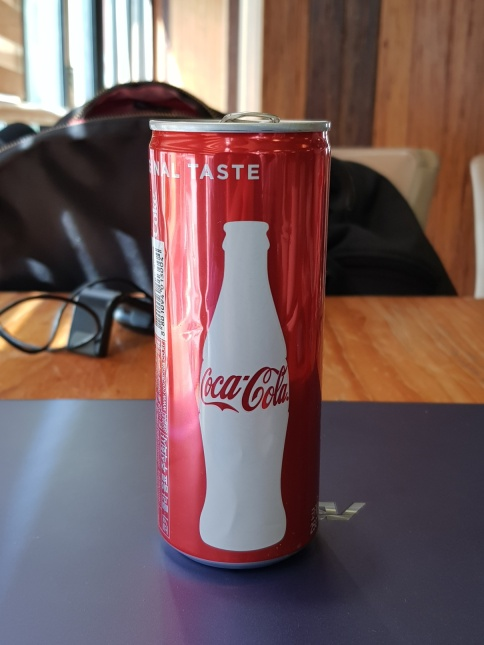Can: (139, 107, 332, 573)
